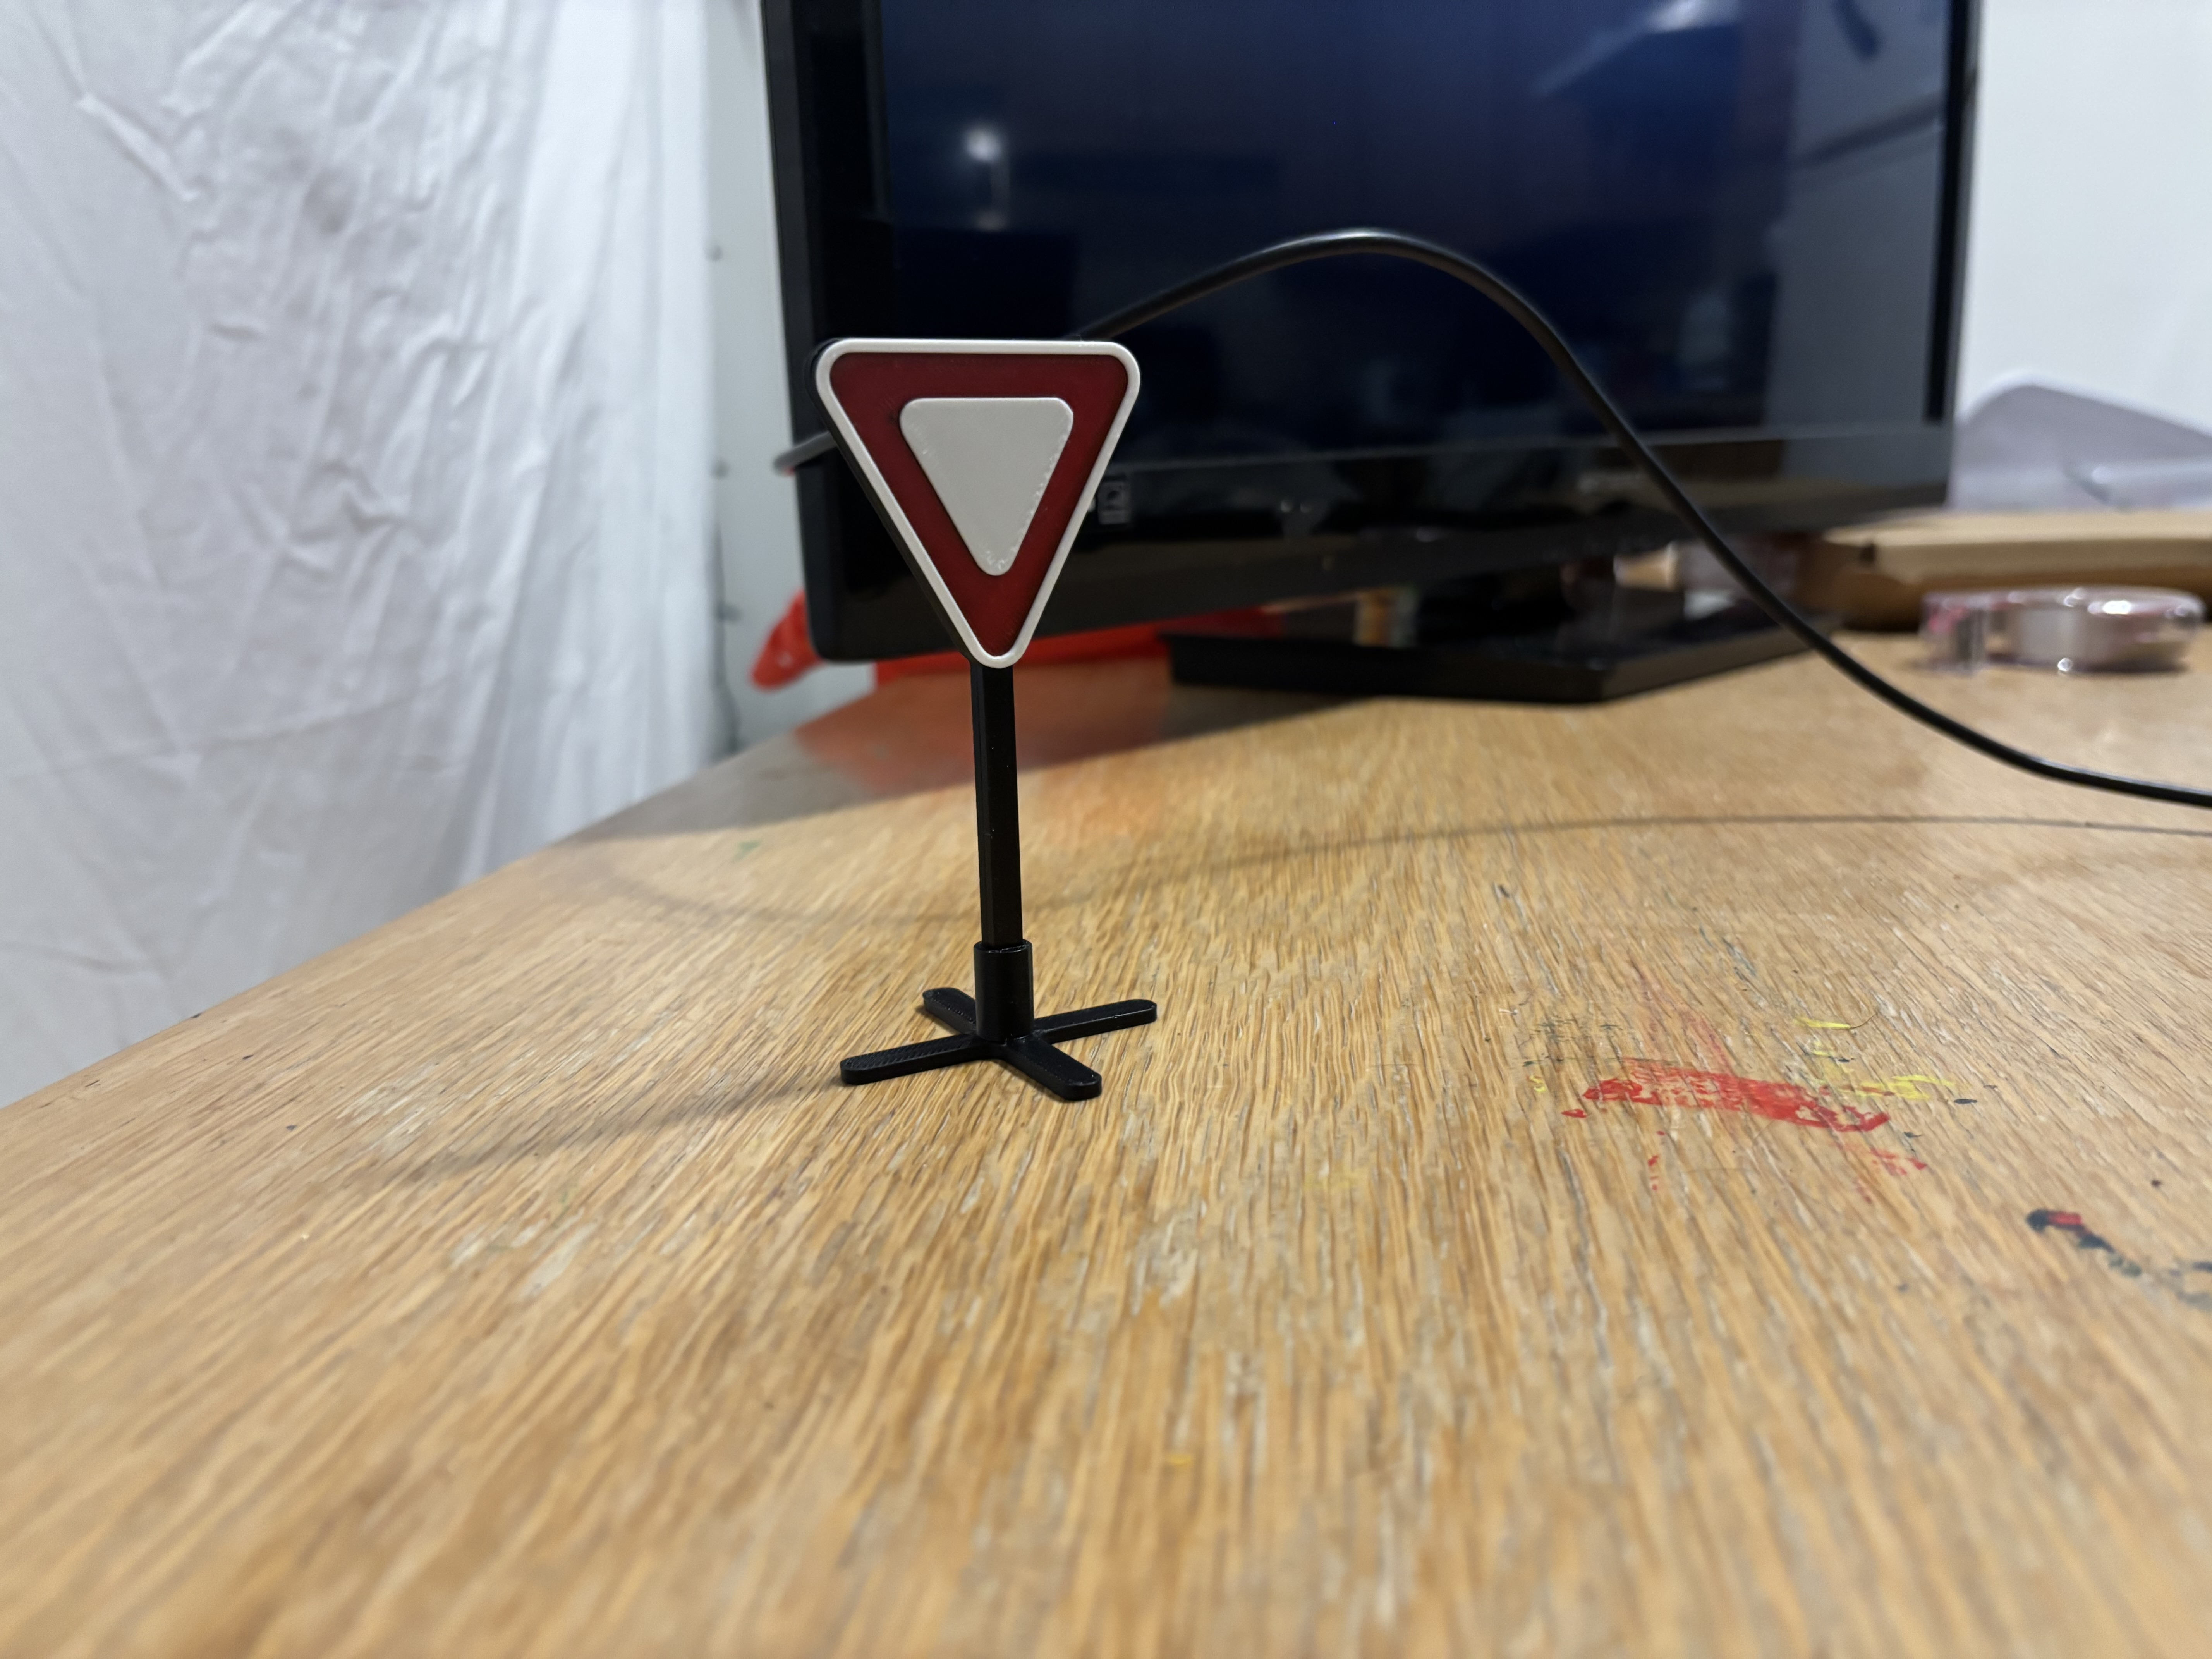sign_yield: (798, 326, 1151, 681)
